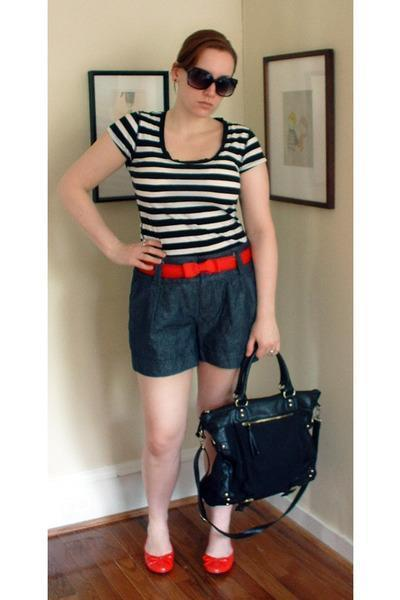bag: (194, 348, 320, 511)
shirt: (97, 108, 269, 264)
shoe: (145, 549, 232, 572)
shorts: (128, 252, 259, 376)
sunglass: (187, 67, 237, 96)
